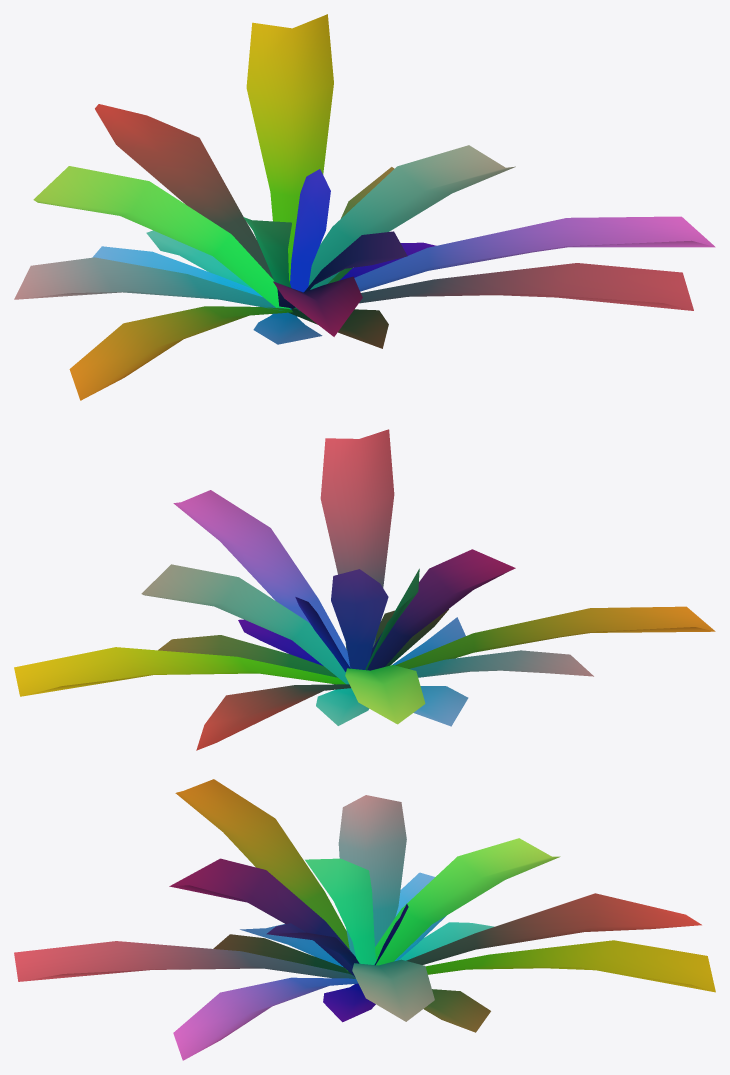
File: Curbside_Weeds_ujzjfexja_Mid_ujzjfexja_VarE_LOD0.fbx
The picture shows the model from 3 angles, top to bottom: view 1: azimuth 30°, elevation 25°; view 2: azimuth 150°, elevation 25°; view 3: azimuth 270°, elevation 25°; orthographic projection. The views are drawn at different scales.
Visible parts, largest first — view 1: _uwud_VarE_LOD1; view 2: _uwud_VarE_LOD1; view 3: _uwud_VarE_LOD1.
Part boxes in pixels (left/top/right/bottom): _uwud_VarE_LOD1: left=14, top=14, right=715, bottom=400; _uwud_VarE_LOD1: left=14, top=429, right=715, bottom=750; _uwud_VarE_LOD1: left=14, top=779, right=715, bottom=1060.
Bounding box in the file's own units: 9.31 × 1.79 × 10.28.
